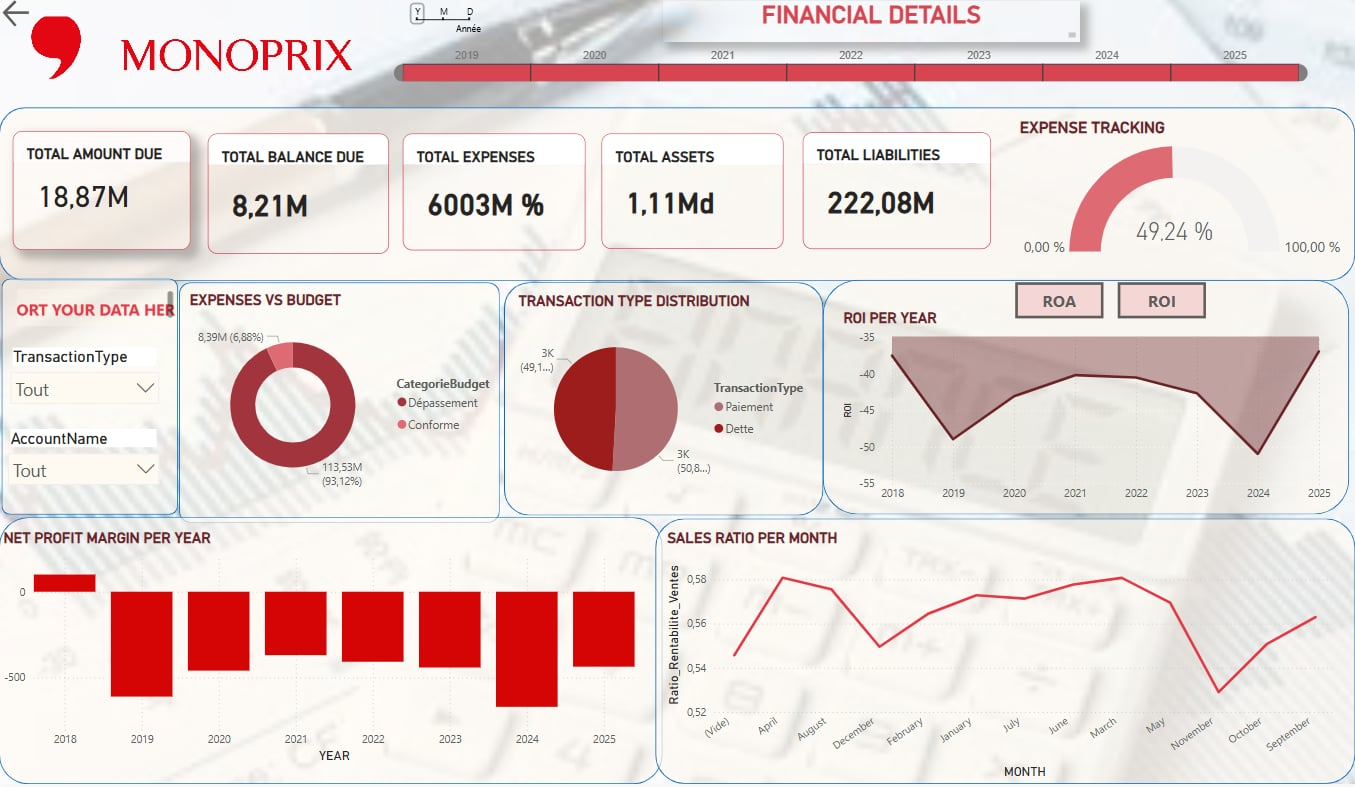

The dashboard page shown, as its layout file describes it:
{"tool":"powerbi","page":{"name":"FINAL ACCOUNTING","canvas":[1560,900],"ordinal":4},"visuals":[{"type":"image","box":[14.8,18.1,407,80.7],"z":0},{"type":"shape","box":[0,127.2,1549.8,198.4],"z":1000},{"type":"shape","box":[0,326.7,366.1,268.8],"z":2000},{"type":"shape","box":[0,594.8,757.5,304.8],"z":3000},{"type":"shape","box":[731.7,326.7,811.7,298.3],"z":4000},{"type":"Timeline1447991079100","fields":{"Time":["Dim_Dates.Date"]},"box":[446.5,0,1056.2,115.3],"z":6000},{"type":"textbox","title":"FINANCIAL DETAILS","box":[758.3,5,476.7,46.7],"z":7000},{"type":"cardVisual","title":"TOTAL AMOUNT DUE","fields":{"Data":["Sum(Fact_FinancialPerformance.AmountDue)"]},"box":[15.3,154.3,203.5,135.7],"z":8000},{"type":"cardVisual","title":"TOTAL BALANCE DUE","fields":{"Data":["Sum(Fact_FinancialPerformance.BalanceDue)"]},"box":[239.1,157.7,206.9,137.3],"z":9000},{"type":"cardVisual","title":"TOTAL LIABILITIES","fields":{"Data":["Sum(Fact_FinancialPerformance.TotalLiabilities)"]},"box":[918.3,155,215,133.3],"z":10000},{"type":"cardVisual","title":"TOTAL ASSETS","fields":{"Data":["Sum(Fact_FinancialPerformance.TotalAssets)"]},"box":[688.3,156.7,208.3,131.7],"z":11000},{"type":"cardVisual","title":"TOTAL EXPENSES","fields":{"Data":["Sum(Fact_FinancialPerformance.ActualExpenses)"]},"box":[461.2,157.7,208.6,134],"z":12000},{"type":"shape","box":[366.1,322.1,366.1,275.8],"z":13000},{"type":"gauge","title":"EXPENSE TRACKING","fields":{"Y":["Sum(Fact_FinancialPerformance.ActualExpenses)"],"MaxValue":["Sum(Fact_FinancialPerformance.Budget)"]},"box":[1161.7,140,381.7,168.3],"z":14000},{"type":"stackedAreaChart","title":"ROI PER YEAR","fields":{"Category":["Dim_Dates.Annee"],"Y":["Fact_FinancialPerformance.ROI"]},"box":[743.3,346.7,778.3,251.7],"z":15000},{"type":"pieChart","title":"TRANSACTION TYPE DISTRIBUTION","fields":{"Category":["Dim_TransactionType.TransactionType"],"Y":["Fact_FinancialPerformance.TotalTransactions"]},"box":[380,336,338.3,247.9],"z":17000},{"type":"columnChart","title":"NET PROFIT MARGIN PER YEAR","fields":{"Y":["Fact_FinancialPerformance.Marge_Beneficiaire_Nette"],"Category":["Dim_Dates.Annee"]},"box":[5.9,624.4,725,257.4],"z":18000},{"type":"donutChart","title":"EXPENSES VS BUDGET","fields":{"Category":["Fact_FinancialPerformance.CategorieBudget"],"Y":["Sum(Fact_FinancialPerformance.Budget)"]},"box":[0,343,359.2,254.9],"z":19000},{"type":"actionButton","box":[1017.9,325.5,100.6,41.4],"z":20000},{"type":"actionButton","box":[1133.3,325.5,100.6,41.4],"z":21000},{"type":"shape","box":[749.5,624,800.4,276.4],"z":22000},{"type":"lineChart","title":"SALES RATIO PER MONTH","fields":{"Y":["Fact_FinancialPerformance.Ratio_Rentabilite_Ventes"],"Category":["Dim_Dates.Lib_Mois"]},"box":[758.3,633.3,773.3,236.7],"z":23000},{"type":"actionButton","box":[0,0,100,40],"z":24000}]}

Visuals, with their boxes in screenshot pixels (x1, y1, x2, y2), scaled from the page's 1560x900 canvas onto the 1355x787 screenshot:
image: bbox=(13, 16, 366, 86)
shape: bbox=(0, 111, 1346, 285)
shape: bbox=(0, 286, 318, 521)
shape: bbox=(0, 520, 658, 786)
shape: bbox=(636, 286, 1341, 547)
Timeline1447991079100 - Dim_Dates.Date: bbox=(388, 0, 1305, 101)
"FINANCIAL DETAILS" textbox: bbox=(659, 4, 1073, 45)
"TOTAL AMOUNT DUE" cardVisual: bbox=(13, 135, 190, 254)
"TOTAL BALANCE DUE" cardVisual: bbox=(208, 138, 387, 258)
"TOTAL LIABILITIES" cardVisual: bbox=(798, 136, 984, 252)
"TOTAL ASSETS" cardVisual: bbox=(598, 137, 779, 252)
"TOTAL EXPENSES" cardVisual: bbox=(401, 138, 582, 255)
shape: bbox=(318, 282, 636, 523)
"EXPENSE TRACKING" gauge: bbox=(1009, 122, 1341, 270)
"ROI PER YEAR" stackedAreaChart: bbox=(646, 303, 1322, 523)
"TRANSACTION TYPE DISTRIBUTION" pieChart: bbox=(330, 294, 624, 511)
"NET PROFIT MARGIN PER YEAR" columnChart: bbox=(5, 546, 635, 771)
"EXPENSES VS BUDGET" donutChart: bbox=(0, 300, 312, 523)
actionButton: bbox=(884, 285, 972, 321)
actionButton: bbox=(984, 285, 1072, 321)
shape: bbox=(651, 546, 1346, 786)
"SALES RATIO PER MONTH" lineChart: bbox=(659, 554, 1330, 761)
actionButton: bbox=(0, 0, 87, 35)
